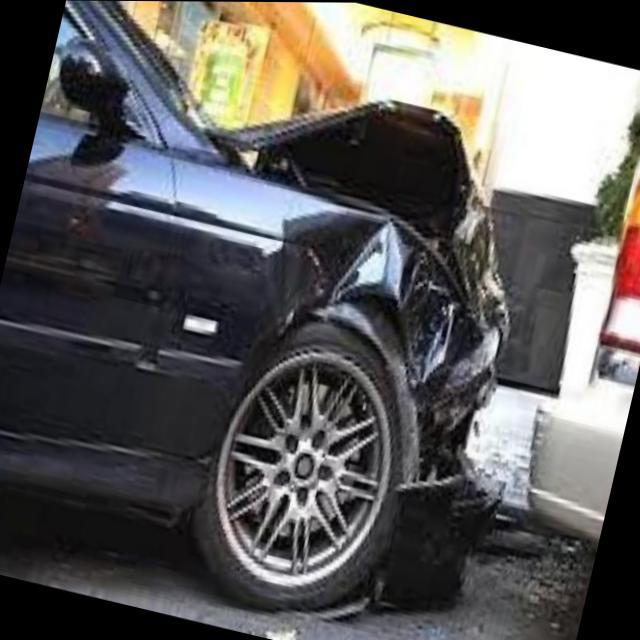crash: (212, 105, 501, 492)
